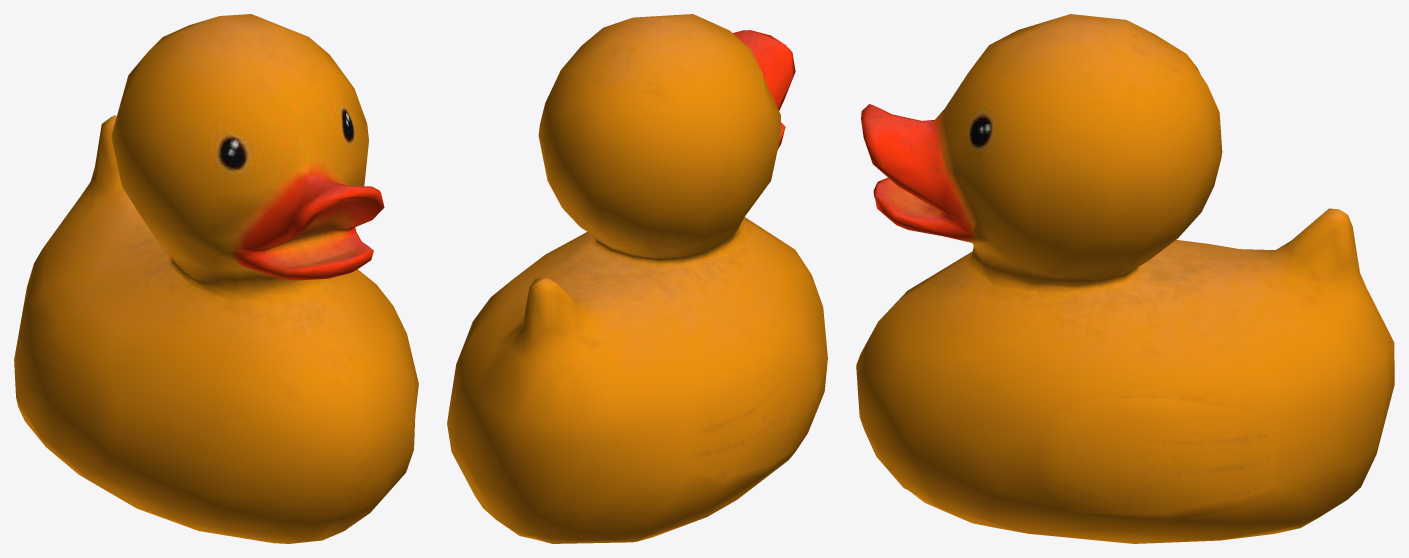
File: rubber_duck_toy.gltf
3 renders of one model, left to right at view 1: azimuth 30°, elevation 25°; view 2: azimuth 150°, elevation 25°; view 3: azimuth 270°, elevation 25°, orthographic. The views are drawn at different scales.
Visible parts, largest first — view 1: body; view 2: body; view 3: body.
Part boxes in pixels (box(x1,y1,x2,y2)): body: box(14, 14, 418, 543); body: box(447, 14, 827, 543); body: box(856, 14, 1394, 543).
Size of the model in its own units: 0.2125 by 0.2853 by 0.2981.
1 material, 1 textured.
